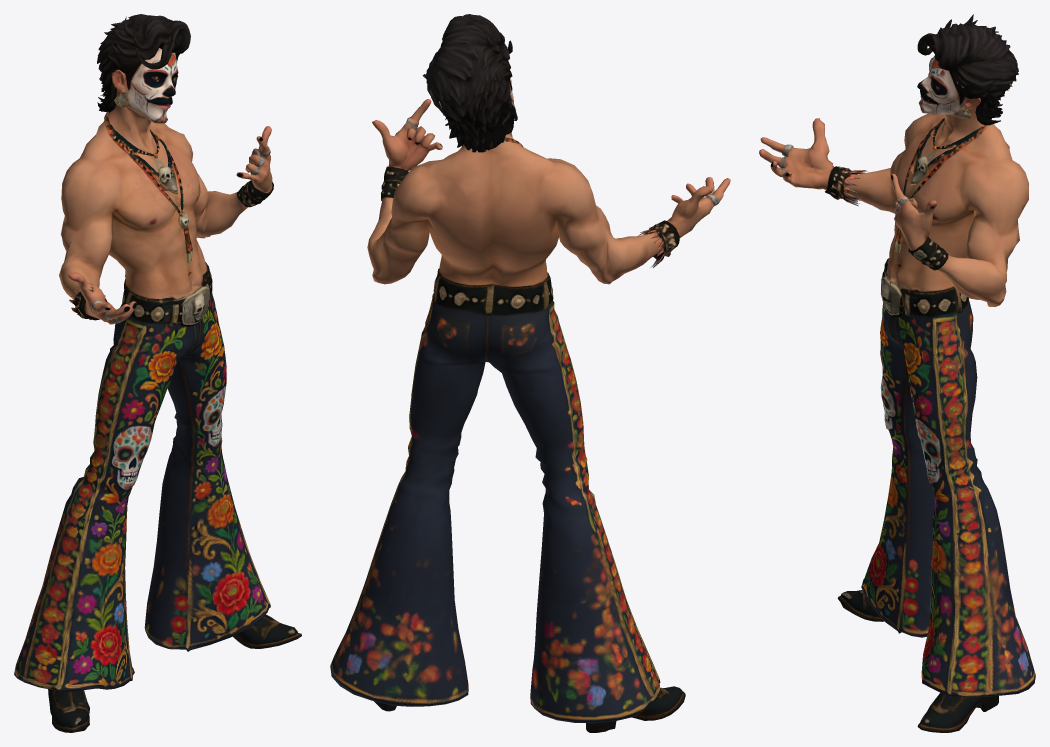
The model's file is Meshy_AI_day_of_the_dead_rocker_3d_20261111_texture.obj.
3 renders of one model, left to right at view 1: azimuth 30°, elevation 25°; view 2: azimuth 150°, elevation 25°; view 3: azimuth 270°, elevation 25°, orthographic. The views are drawn at different scales.
Visible parts, largest first — view 1: Meshy_AI_day_of_the_dead_rocker_3d_20261111_texture; view 2: Meshy_AI_day_of_the_dead_rocker_3d_20261111_texture; view 3: Meshy_AI_day_of_the_dead_rocker_3d_20261111_texture.
Part boxes in pixels (<box>): Meshy_AI_day_of_the_dead_rocker_3d_20261111_texture: <box>14,14,301,732</box>; Meshy_AI_day_of_the_dead_rocker_3d_20261111_texture: <box>330,14,730,732</box>; Meshy_AI_day_of_the_dead_rocker_3d_20261111_texture: <box>759,14,1035,732</box>.
Bounding box in the file's own units: 0.439 × 0.9512 × 0.3667.
1 material, 1 textured.
